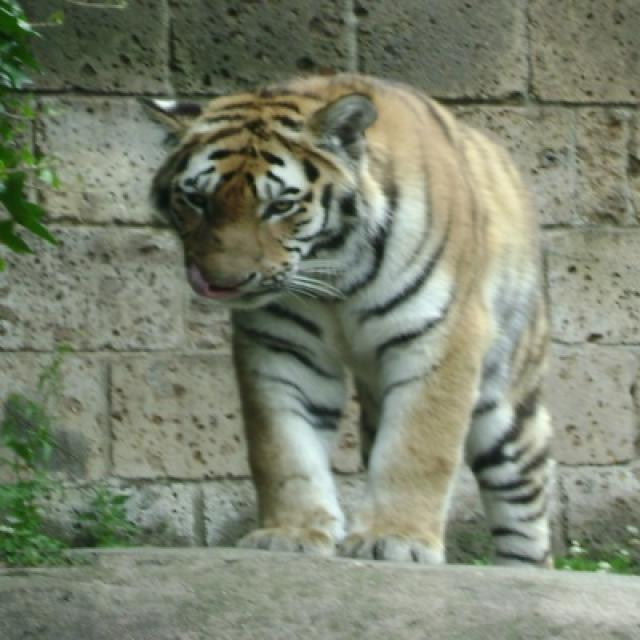Tiger: (140, 75, 557, 566)
